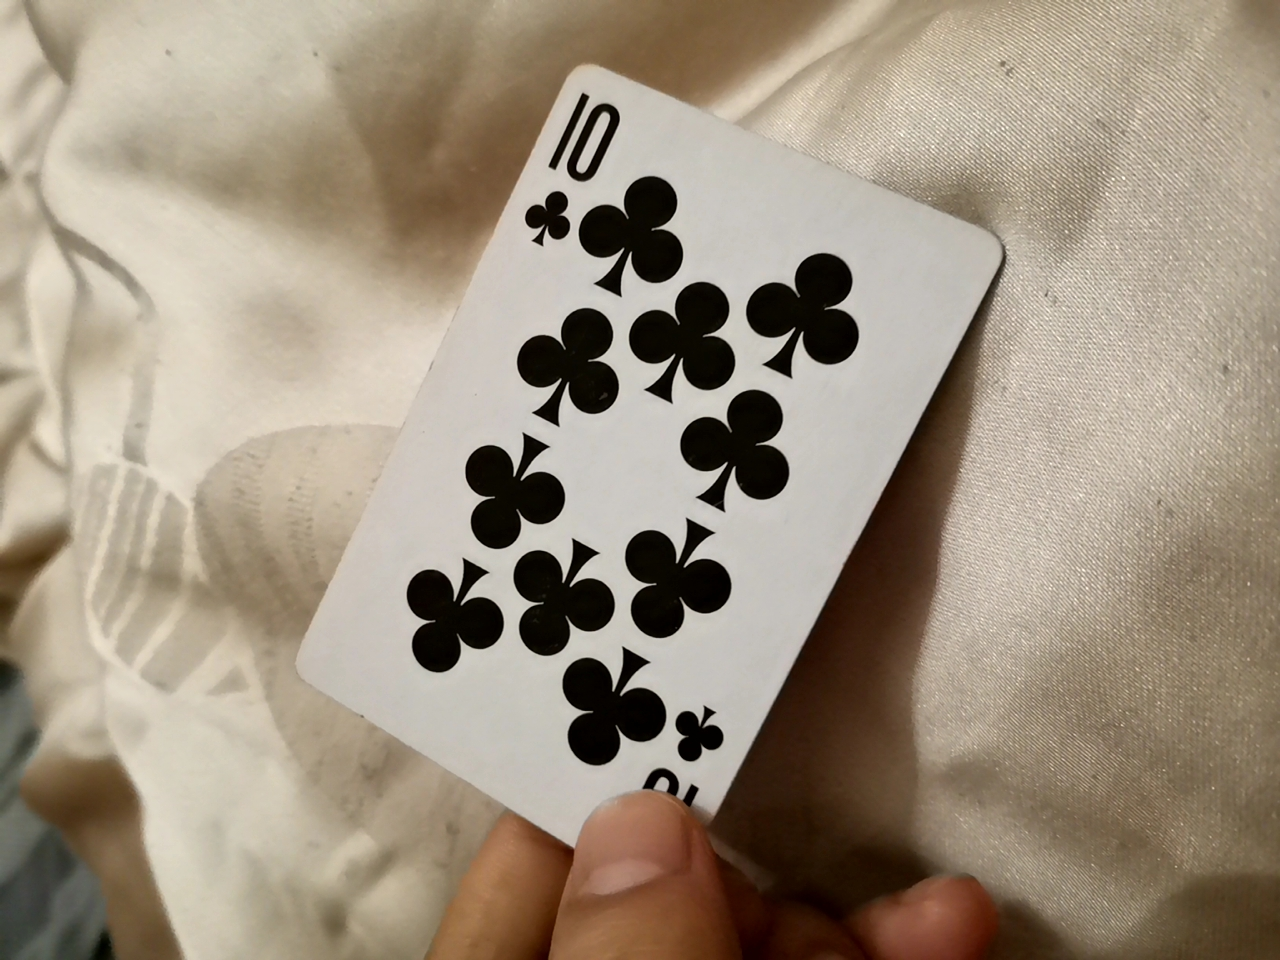mh 10: (315, 56, 997, 864)
